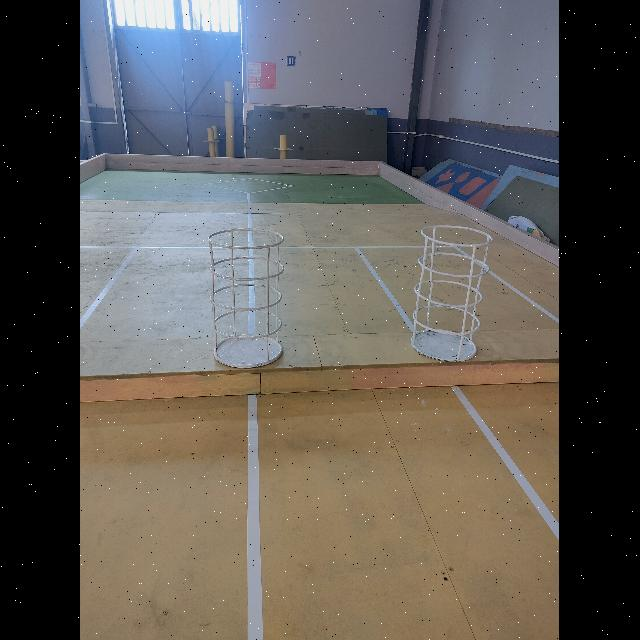S: (410, 225, 494, 361), (207, 227, 284, 369)
